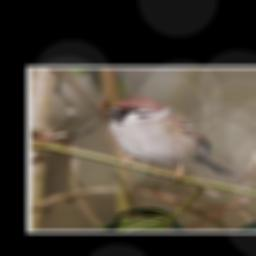Sparrow: (100, 96, 242, 183)
